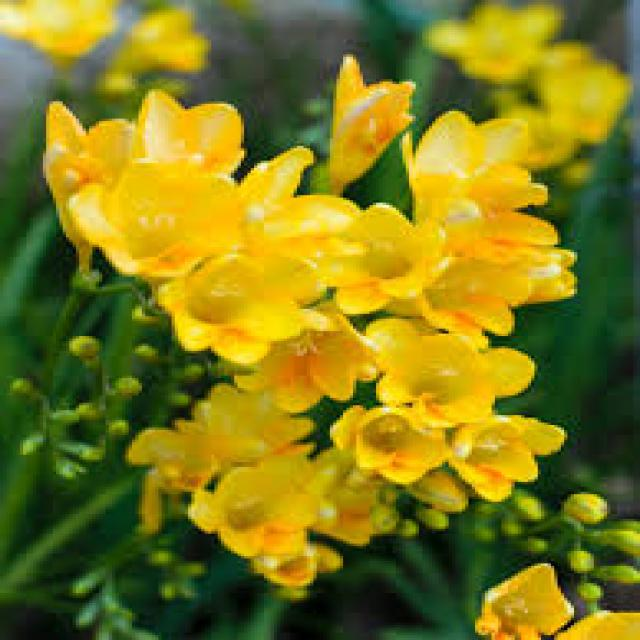freesia: (43, 83, 248, 284), (394, 112, 556, 238), (174, 249, 335, 373), (380, 320, 540, 438), (306, 206, 459, 327), (317, 51, 421, 189), (190, 456, 317, 564), (347, 406, 458, 487)
